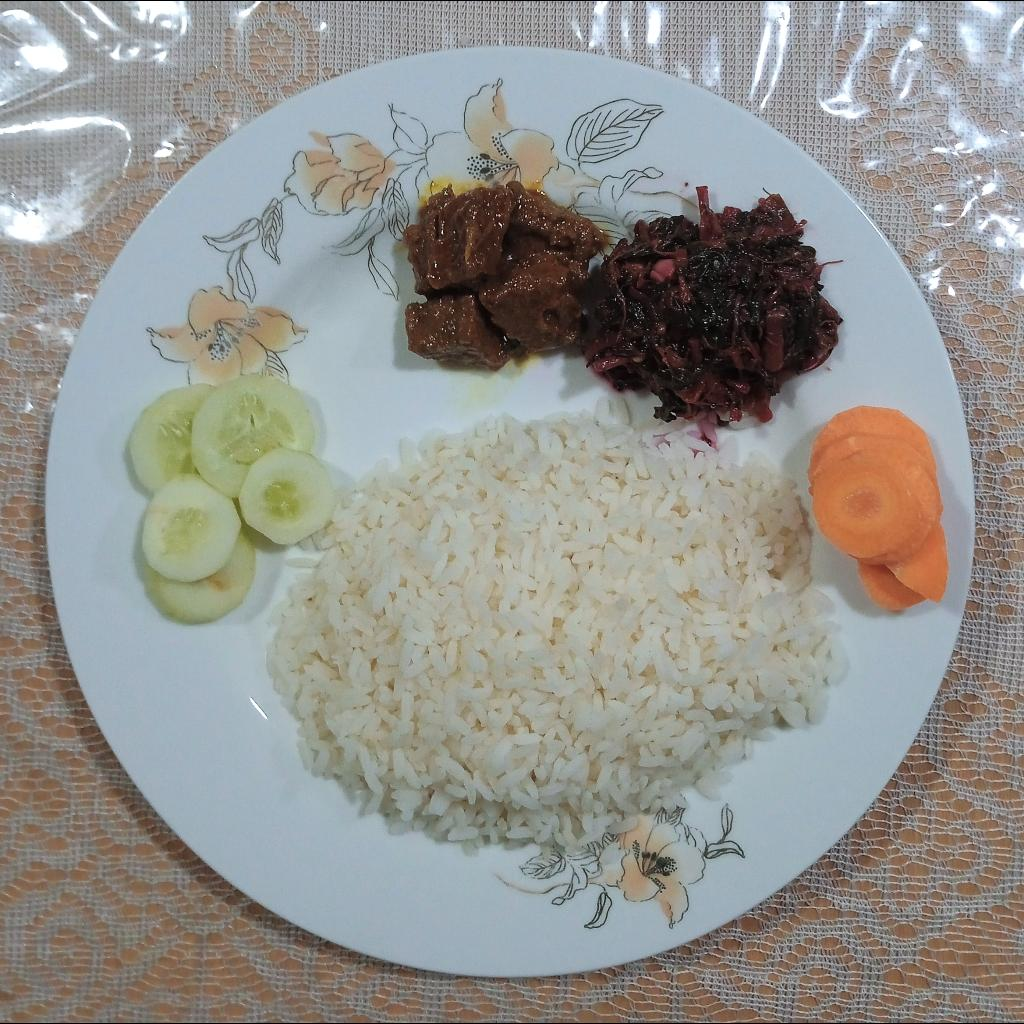beef: (402, 180, 604, 370)
carrot: (809, 406, 948, 611)
cucumber: (128, 375, 333, 627)
lal-shak: (581, 187, 844, 423)
rice: (258, 391, 853, 864)
